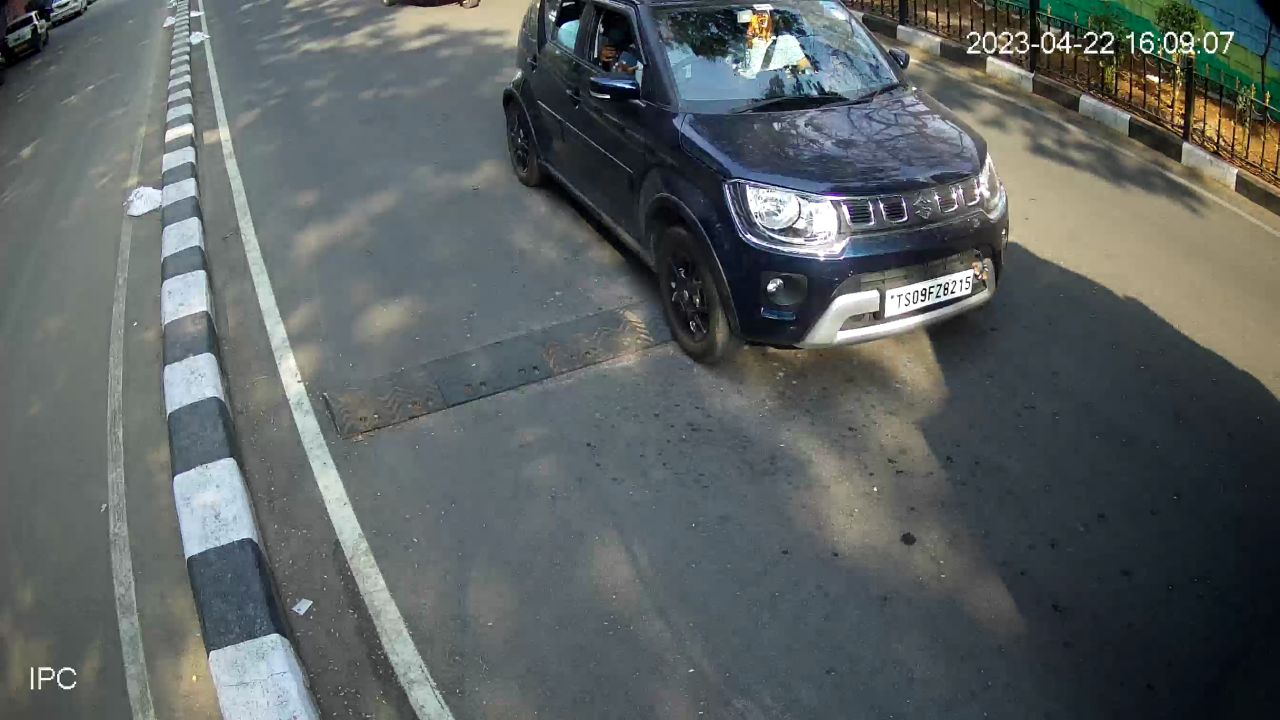license_plate: (882, 265, 978, 324)
